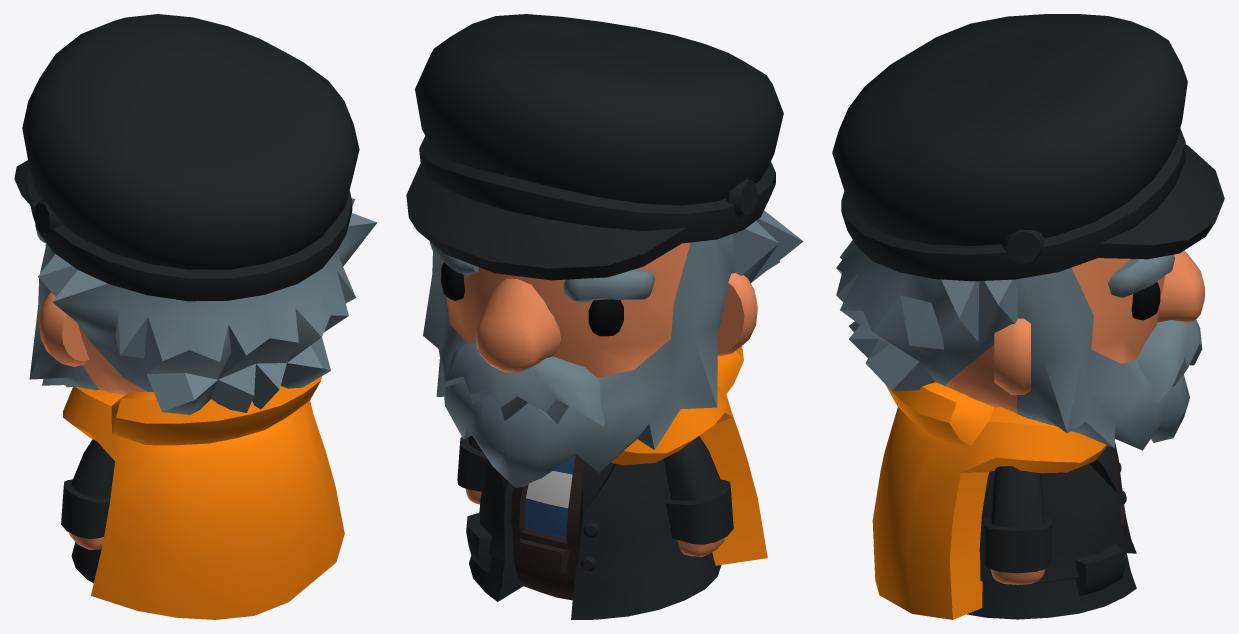
Rendered from Char_Douglas.fbx.
3 renders of one model, left to right at view 1: azimuth 30°, elevation 25°; view 2: azimuth 150°, elevation 25°; view 3: azimuth 270°, elevation 25°, orthographic. The views are drawn at different scales.
Visible parts, largest first — view 1: Hat, Coat, Head, ArmLeft, Body; view 2: Hat, Head, Body, Coat, ArmLeft, ArmRight; view 3: Hat, Head, Coat, Body, ArmRight.
Boxes of the visible parts, x1,y1,x2,y2 form: Hat: (14, 14, 359, 301); Coat: (63, 376, 344, 619); Head: (29, 198, 377, 414); ArmLeft: (61, 439, 114, 549); Body: (71, 542, 101, 582); Hat: (406, 14, 783, 280); Head: (423, 210, 803, 487); Body: (466, 455, 721, 619); Coat: (611, 346, 767, 565); ArmLeft: (663, 436, 733, 556); ArmRight: (457, 435, 487, 504); Hat: (832, 14, 1224, 281); Head: (836, 240, 1204, 450); Coat: (872, 382, 1107, 619); Body: (967, 442, 1136, 619); ArmRight: (984, 466, 1051, 584).
Bounding box in the file's own units: 51.76 × 50.81 × 76.82.
